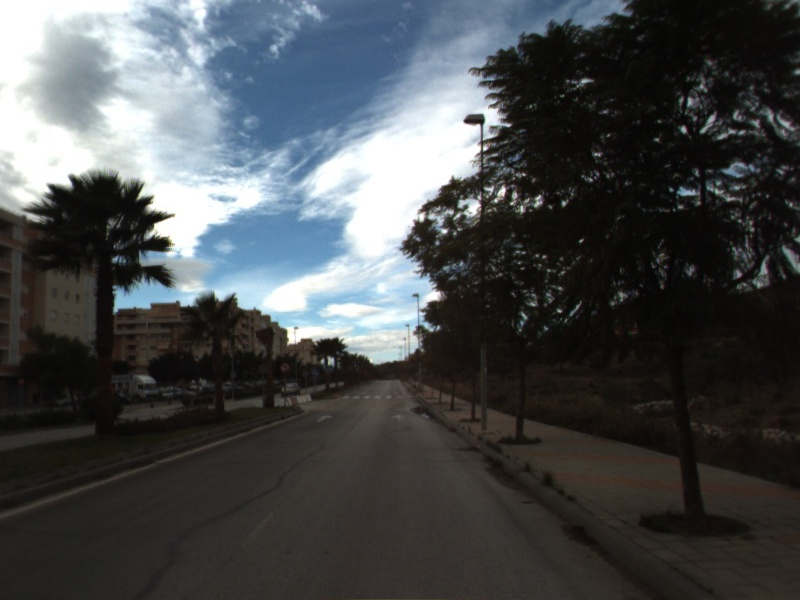STRAIGHT: (315, 413, 335, 424)
